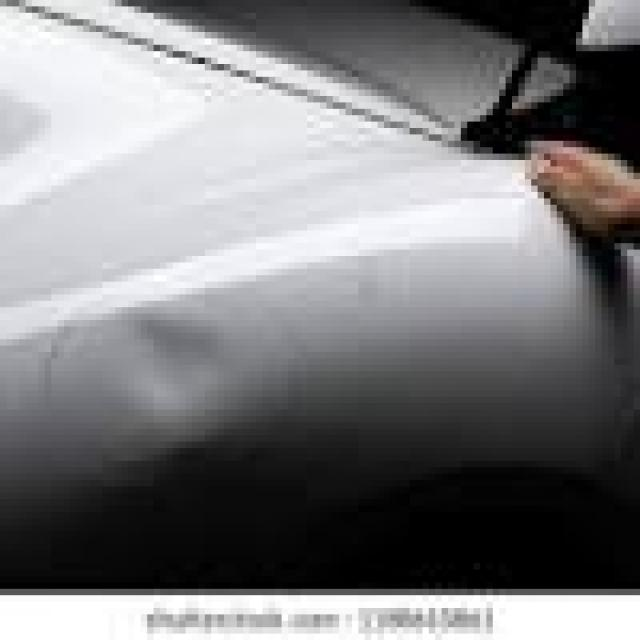moderate: (122, 276, 297, 459)
